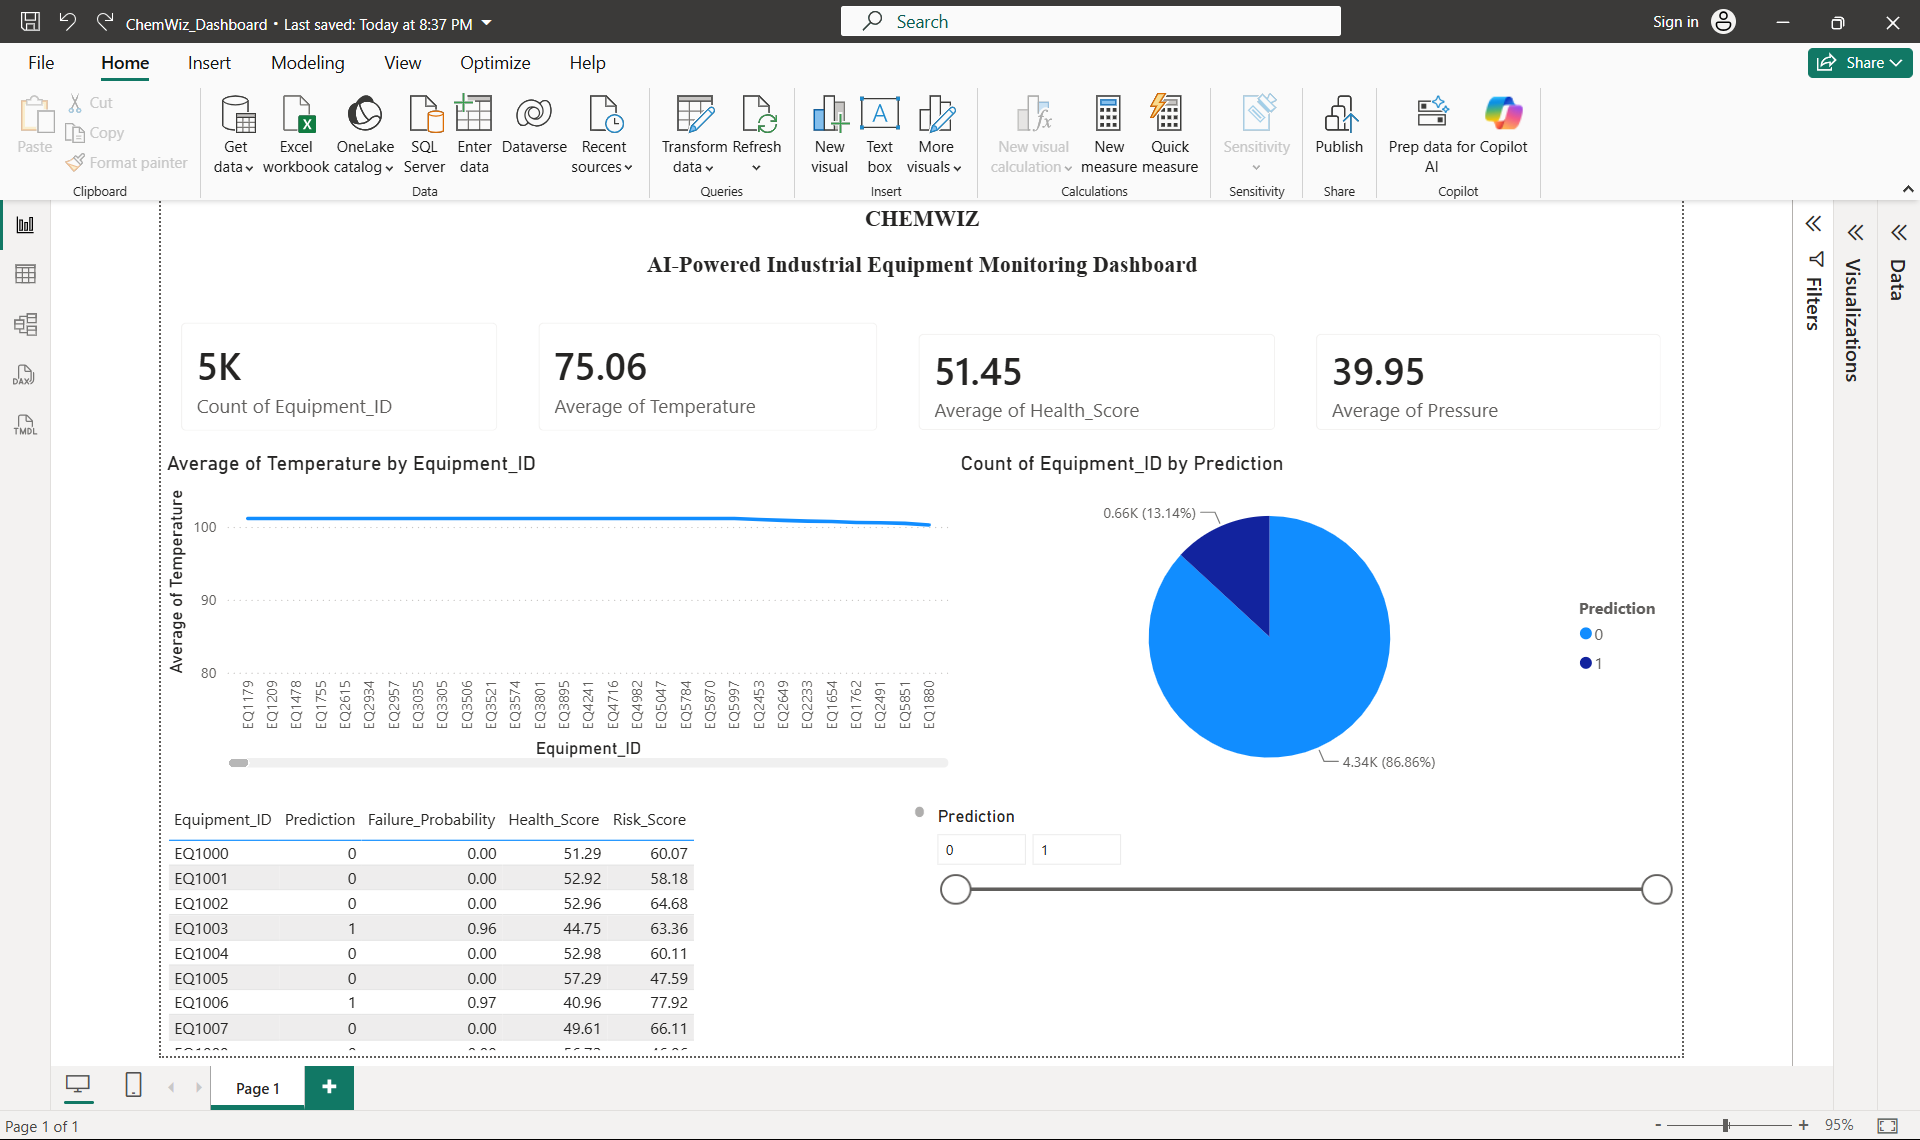

This screenshot's page, from the dashboard's own definition file:
{"tool":"powerbi","page":{"name":"Page 1","canvas":[1280,720],"ordinal":0},"visuals":[{"type":"textbox","box":[9.6,0,1093.7,86.4],"z":0},{"type":"cardVisual","fields":{"Data":["CountNonNull(processed_data.Equipment_ID)"]},"box":[9.6,86.4,230.5,124.9],"z":1000},{"type":"cardVisual","fields":{"Data":["Avg(processed_data.Temperature)"]},"box":[212.7,96.1,236,133.1],"z":2000},{"type":"cardVisual","fields":{"Data":["Avg(processed_data.Health_Score)"]},"box":[426.8,96.1,233.3,115.3],"z":3000},{"type":"cardVisual","fields":{"Data":["Avg(processed_data.Pressure)"]},"box":[660,96.1,242.9,115.3],"z":4000},{"type":"pieChart","fields":{"Category":["processed_data.Prediction"],"Y":["CountNonNull(processed_data.Equipment_ID)"]},"box":[580.4,211.3,565.4,293.7],"z":5000},{"type":"lineChart","fields":{"Y":["Avg(processed_data.Temperature)"],"Category":["processed_data.Equipment_ID"]},"box":[0,211.3,580.4,293.7],"z":6000},{"type":"slicer","fields":{"Values":["processed_data.Prediction"]},"box":[712.2,505,524.2,215.4],"z":6002},{"type":"tableEx","fields":{"Values":["processed_data.Equipment_ID","processed_data.Prediction","processed_data.Failure_Probability","processed_data.Health_Score","processed_data.Risk_Score"]},"box":[0,505,580,215],"z":6003}]}

Visuals, with their boxes on the page's 1280x720 design canvas (x1, y1, x2, y2). These are canvas units, not pixel positions in the 1920x1140 screenshot, which may show the page scaled, cropped or inside an application window:
textbox: 10/0/1103/86
cardVisual - CountNonNull(processed_data.Equipment_ID): 10/86/240/211
cardVisual - Avg(processed_data.Temperature): 213/96/449/229
cardVisual - Avg(processed_data.Health_Score): 427/96/660/211
cardVisual - Avg(processed_data.Pressure): 660/96/903/211
pieChart - processed_data.Prediction x CountNonNull(processed_data.Equipment_ID): 580/211/1146/505
lineChart - Avg(processed_data.Temperature) x processed_data.Equipment_ID: 0/211/580/505
slicer - processed_data.Prediction: 712/505/1236/720
tableEx - processed_data.Equipment_ID x processed_data.Prediction: 0/505/580/720
